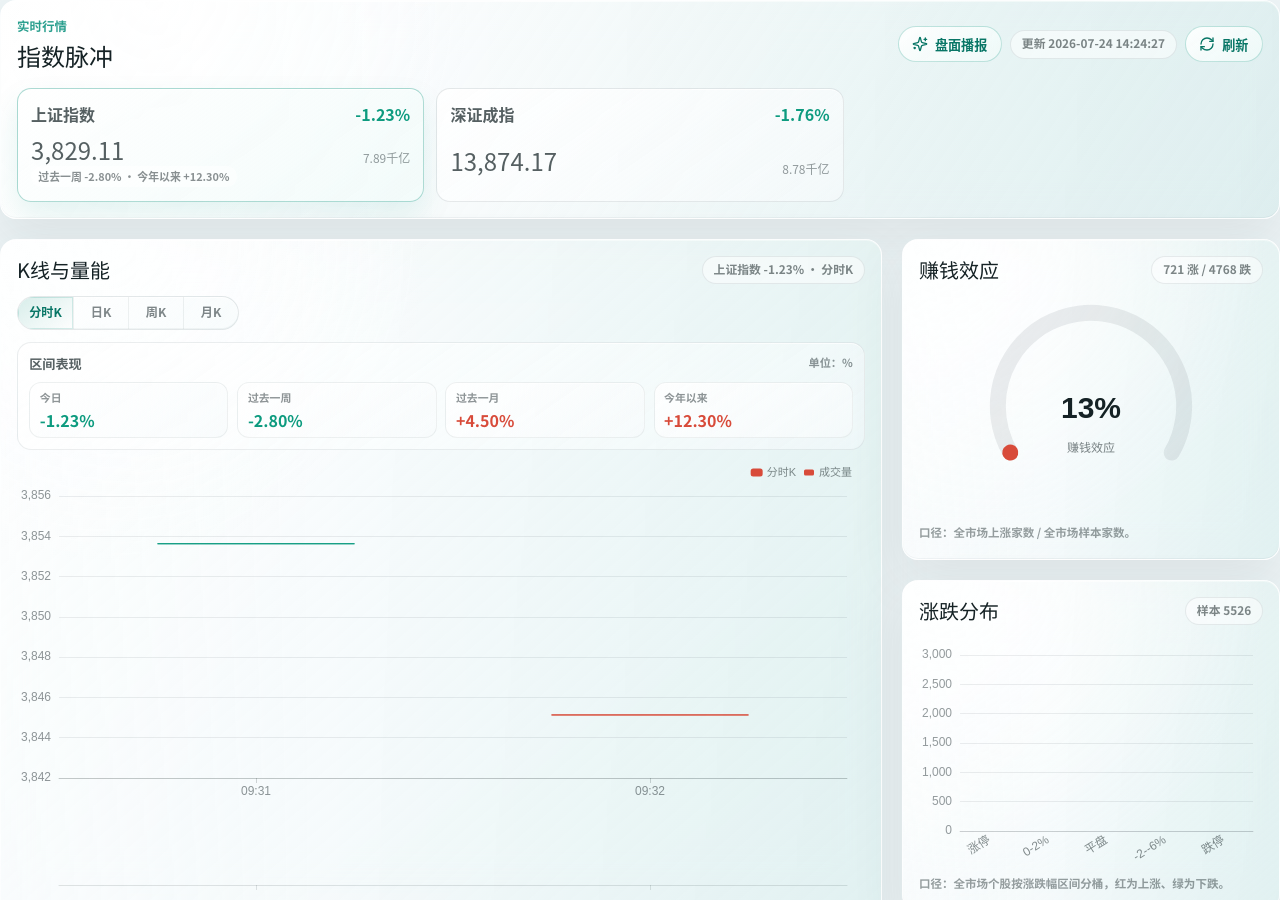
Scenario: MarketOverviewView › switches market chart timeframe without refetching structural market data
This screenshot has width=1280, height=900.
Expected: the text "上证指数" is shown, x1=31 y1=102 x2=95 y2=126
Expected: the button "MA" is not shown
Click the button "周K" at (156, 312), box x1=128 y1=296 x2=183 y2=328
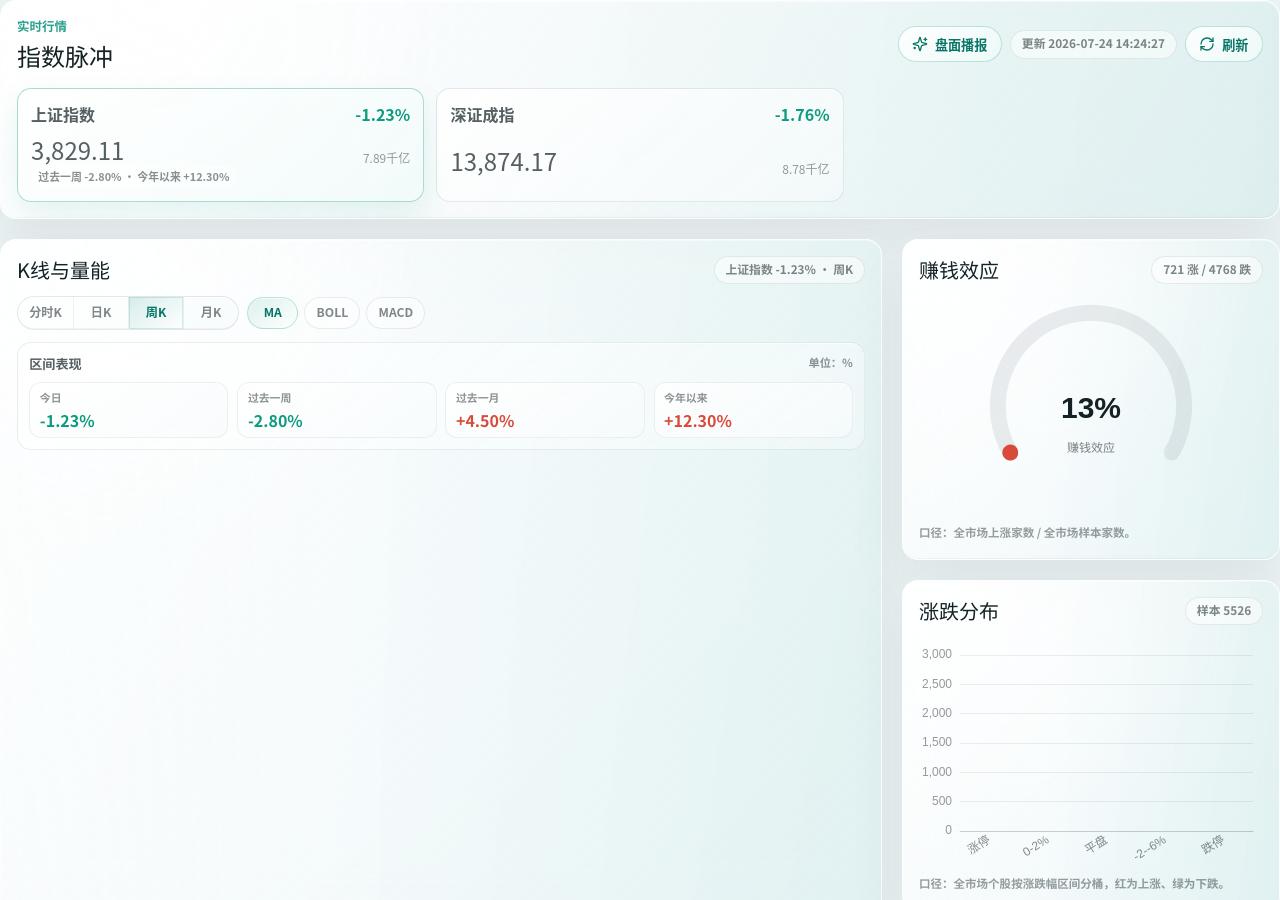
Result: the button "MA" is shown at x1=247 y1=296 x2=298 y2=328
Result: the button "BOLL" is shown at x1=304 y1=296 x2=360 y2=328
Result: the button "MACD" is shown at x1=366 y1=296 x2=425 y2=328
Click the button "月K" at (211, 312), box x1=183 y1=296 x2=238 y2=328
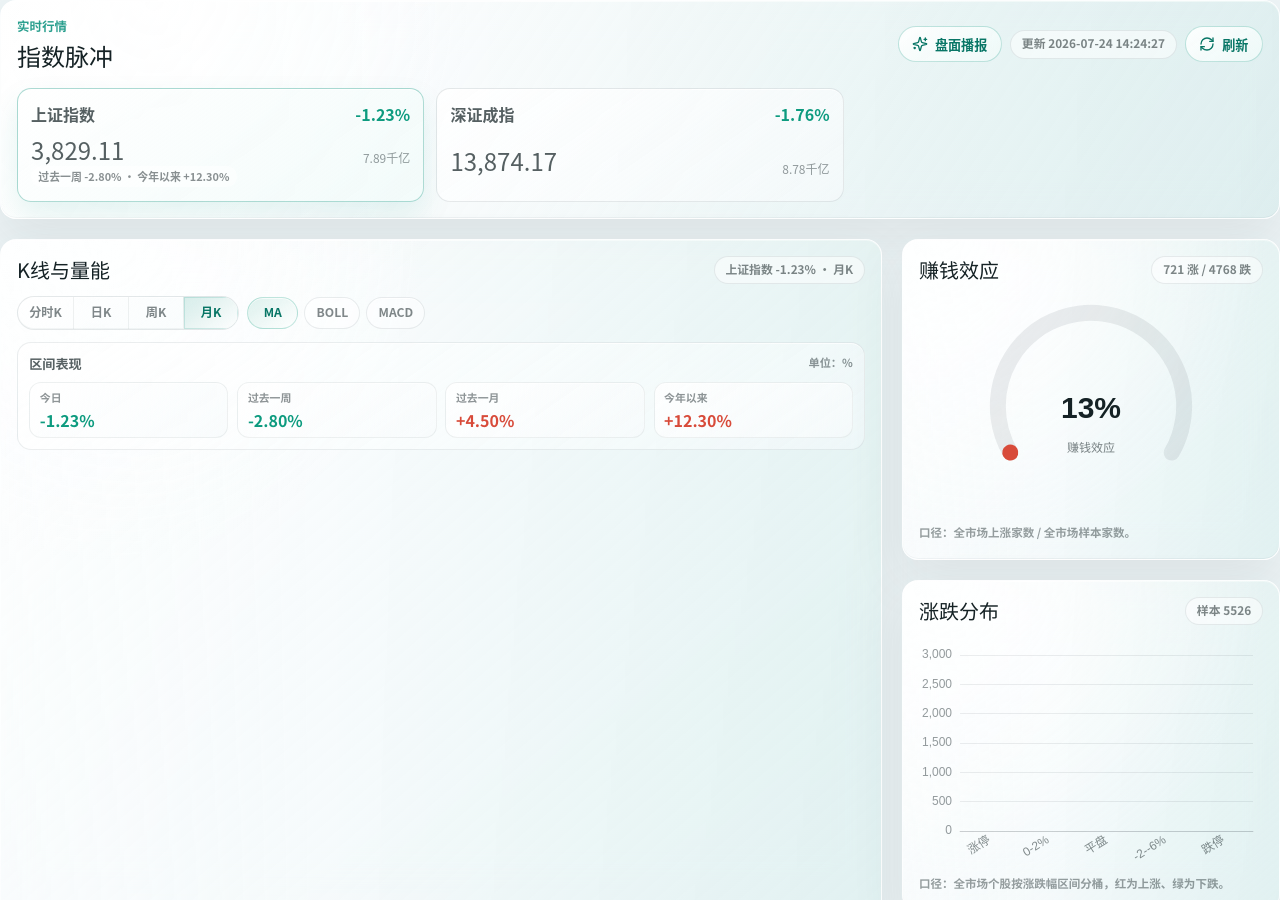
Click the button "分时K" at (46, 312), box x1=18 y1=296 x2=73 y2=328
(page scrolled)
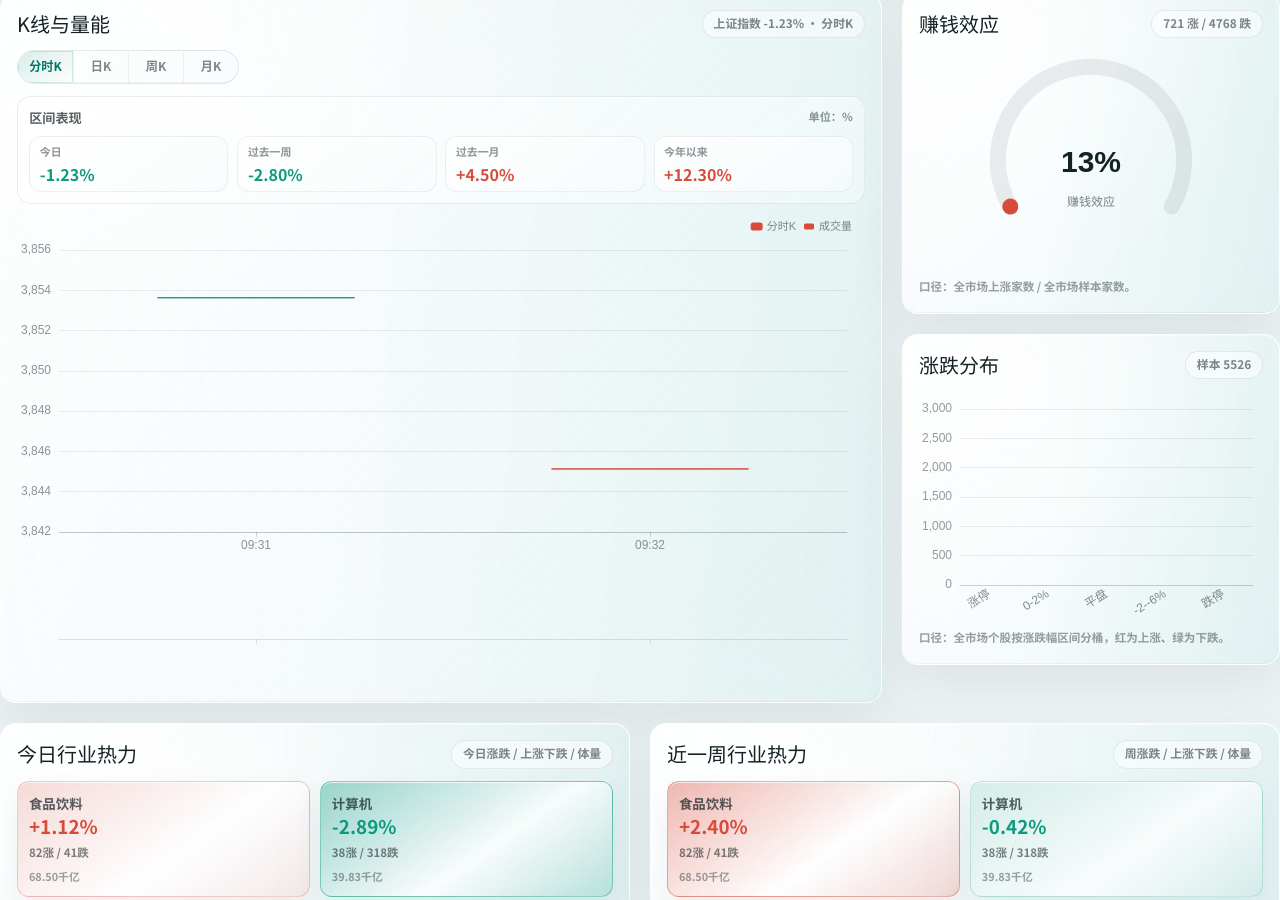
Result: the picture named "指数分时K图" is shown at x1=17 y1=216 x2=865 y2=686
